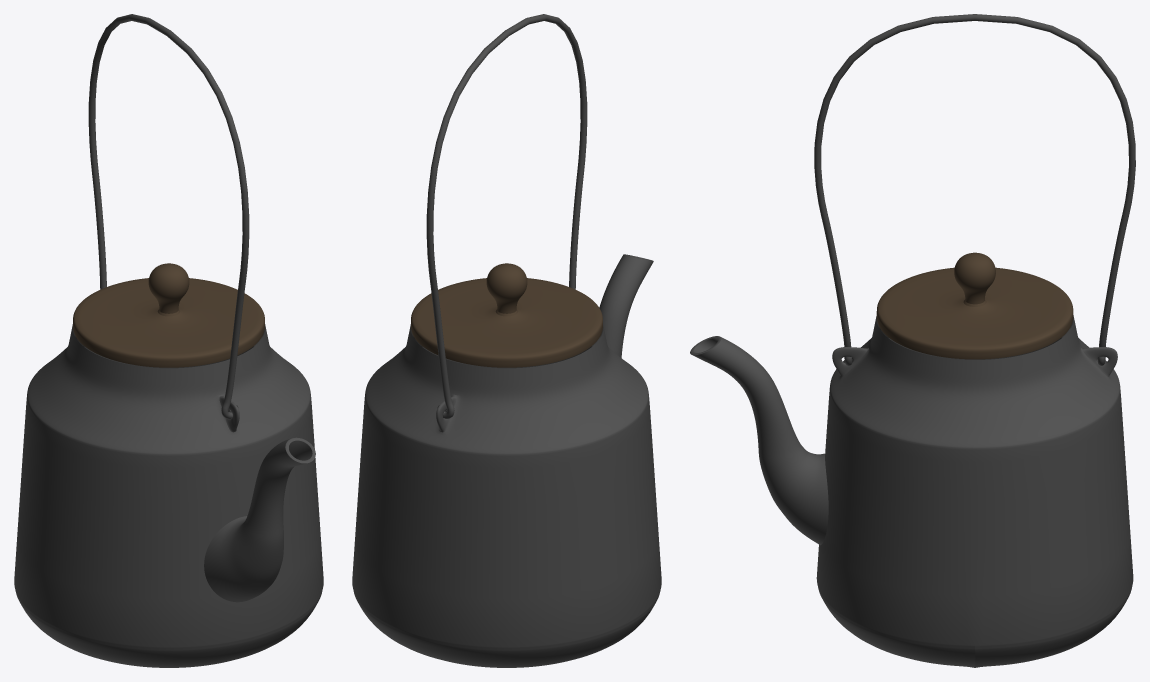
The model's file is obj_cast_iron_kettle_300a05.glb.
3 renders of one model, left to right at view 1: azimuth 30°, elevation 25°; view 2: azimuth 150°, elevation 25°; view 3: azimuth 270°, elevation 25°, orthographic. The views are drawn at different scales.
Visible parts, largest first — view 1: obj_cast_iron_kettle_300a05; view 2: obj_cast_iron_kettle_300a05; view 3: obj_cast_iron_kettle_300a05.
Boxes of the visible parts, x1,y1,x2,y2 form: obj_cast_iron_kettle_300a05: (14, 14, 323, 667); obj_cast_iron_kettle_300a05: (352, 14, 661, 667); obj_cast_iron_kettle_300a05: (690, 14, 1135, 667).
Size of the model in its own units: 0.1177 by 0.25 by 0.1652.
